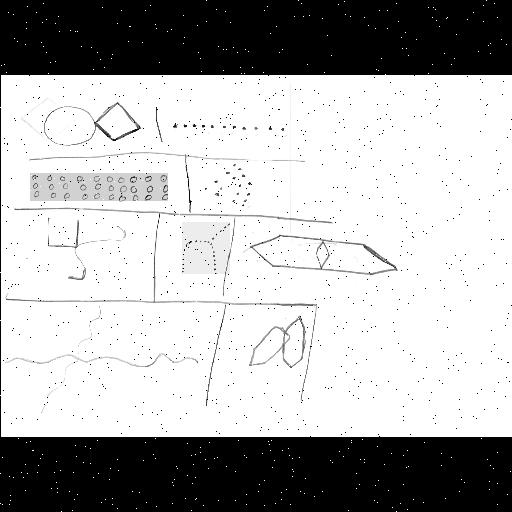shape-1: (43, 104, 139, 146)
shape-2: (172, 122, 284, 132)
shape-3: (30, 173, 168, 201)
shape-4: (204, 162, 252, 208)
shape-5: (48, 216, 124, 280)
shape-6: (182, 222, 230, 274)
shape-7: (5, 306, 197, 412)
shape-8: (248, 315, 306, 369)
shape-9: (250, 233, 398, 275)
